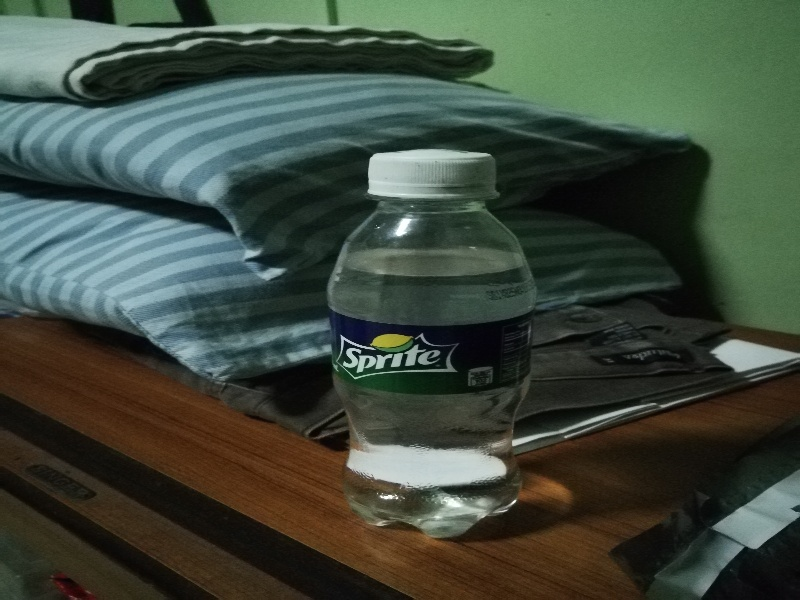PET #1: (327, 144, 540, 543)
